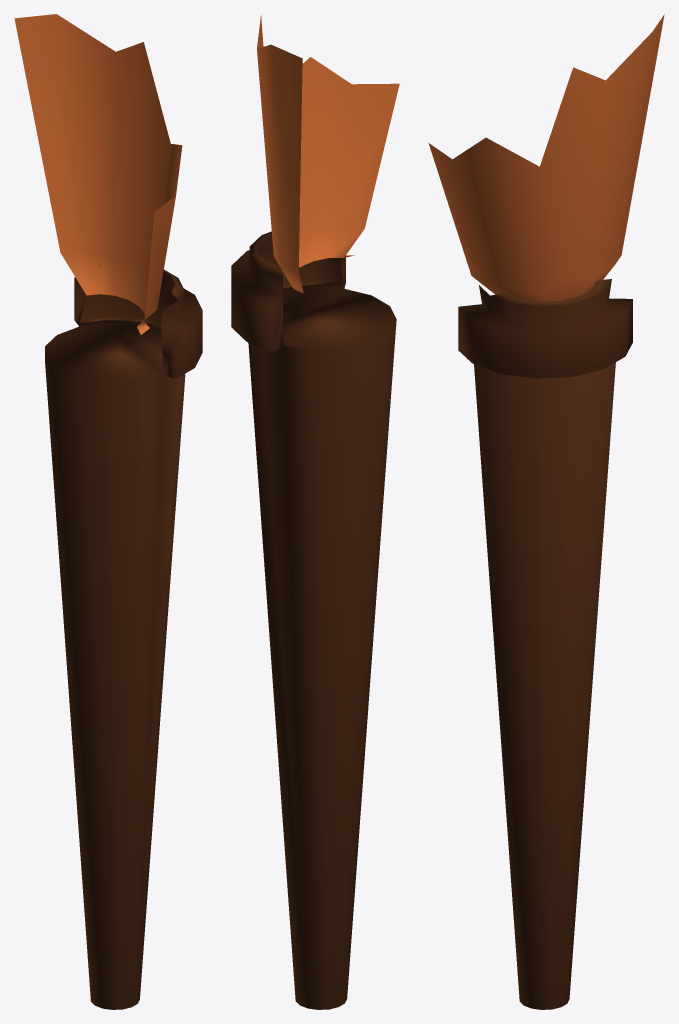
File: fackla (2).fbx
3 views of the same model, side by side, from view 1: azimuth 30°, elevation 25°; view 2: azimuth 150°, elevation 25°; view 3: azimuth 270°, elevation 25° (orthographic). The views are drawn at different scales.
Visible parts, largest first — view 1: Cylinder.001, Cylinder.002; view 2: Cylinder.001, Cylinder.002; view 3: Cylinder.001, Cylinder.002.
Boxes of the visible parts, x1,y1,x2,y2 form: Cylinder.001: (45,265,202,1009); Cylinder.002: (14,14,182,334); Cylinder.001: (231,231,396,1009); Cylinder.002: (257,15,399,293); Cylinder.001: (458,279,632,1009); Cylinder.002: (428,14,664,301).
Bounding box in the file's own units: 48.31 × 319 × 70.82.
